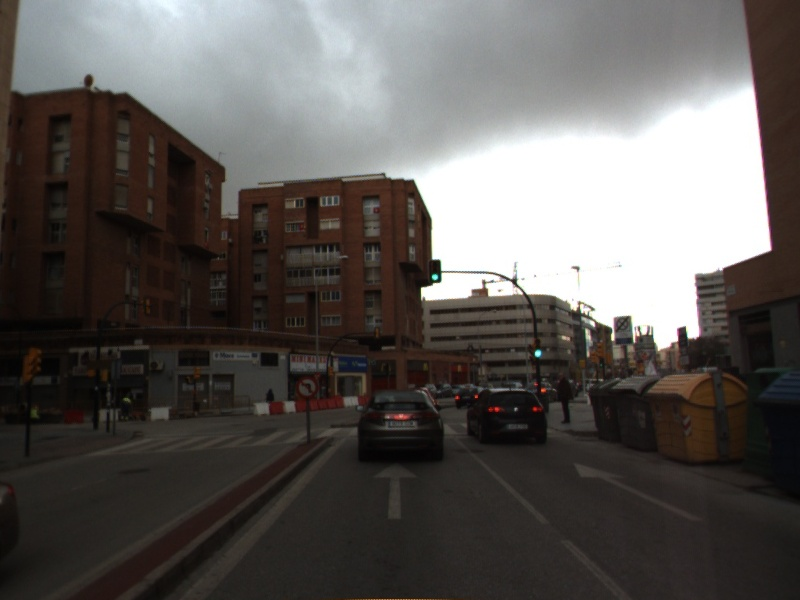STRAIGHT: (571, 460, 706, 524), (371, 460, 420, 522)
